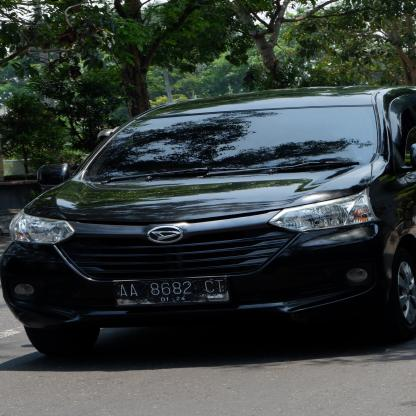Plat-Nomor: (107, 276, 231, 306)
